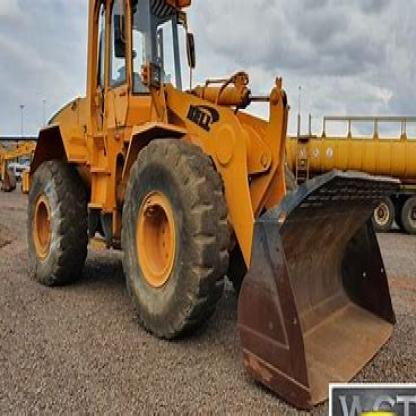bull_dozer/loader/grader: (11, 0, 400, 405)
